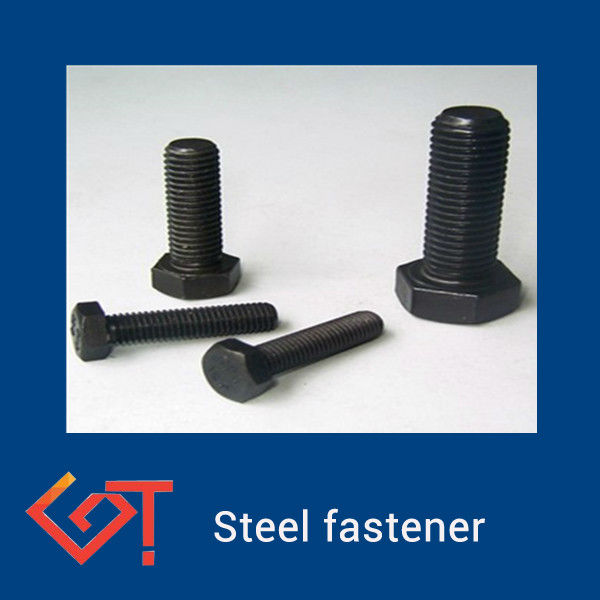screw: (393, 104, 524, 324), (201, 310, 385, 401), (151, 137, 241, 300), (69, 300, 279, 361)
